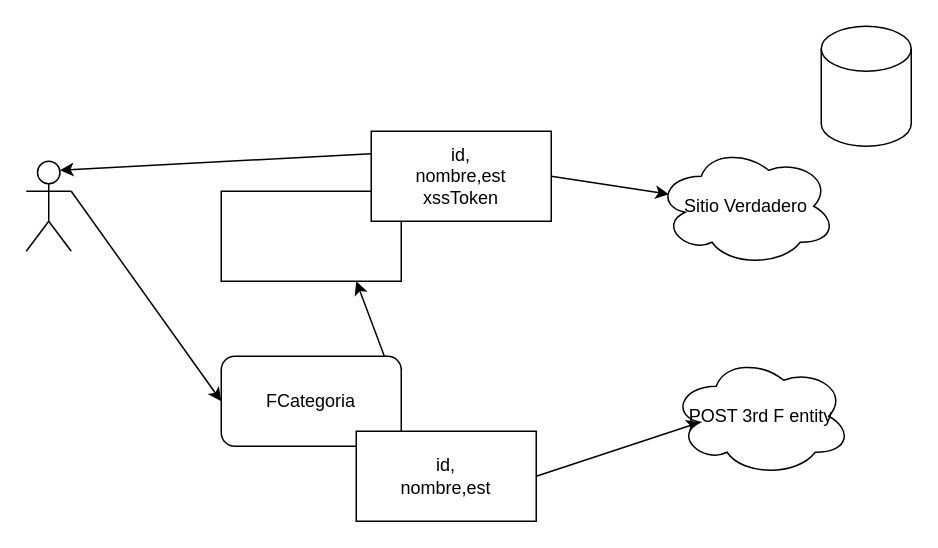
Image size: 938x548. Some labels were removed from this diagram. Here are the shapes that lost their labels. From the top down, the box of each, then its label:
(820, 25, 911, 146): SESSION xssToken
(25, 160, 71, 251): User
(220, 190, 401, 281): Categoria
